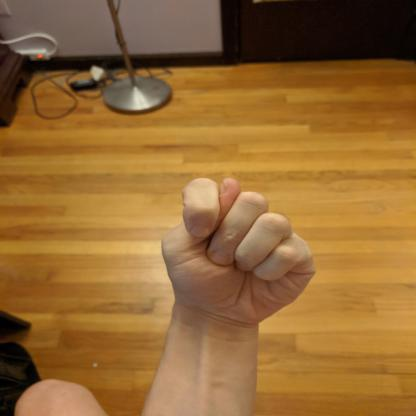T: (155, 173, 322, 330)
